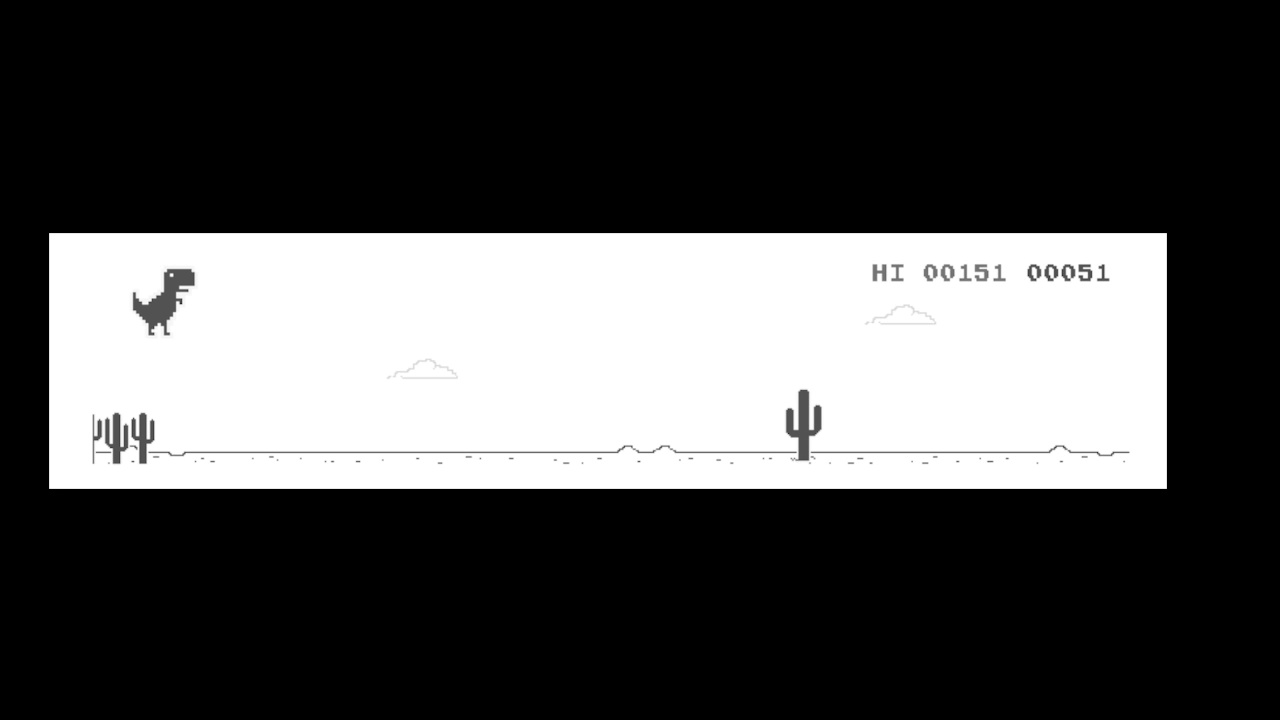bigone: (780, 388, 825, 467)
dino: (130, 265, 196, 336)
small3: (95, 407, 152, 465)
